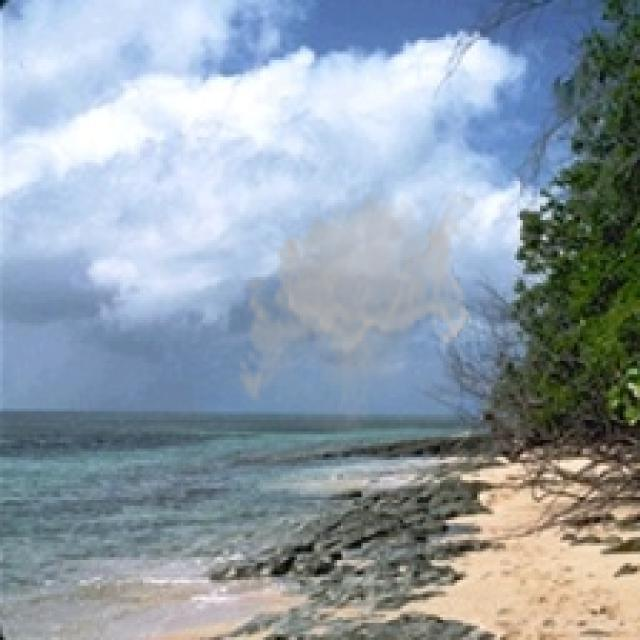smoke: (232, 186, 474, 431)
